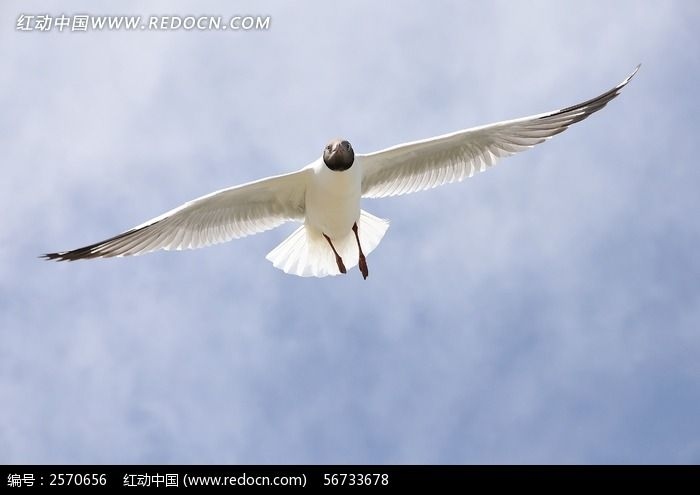bird: (43, 55, 644, 301)
